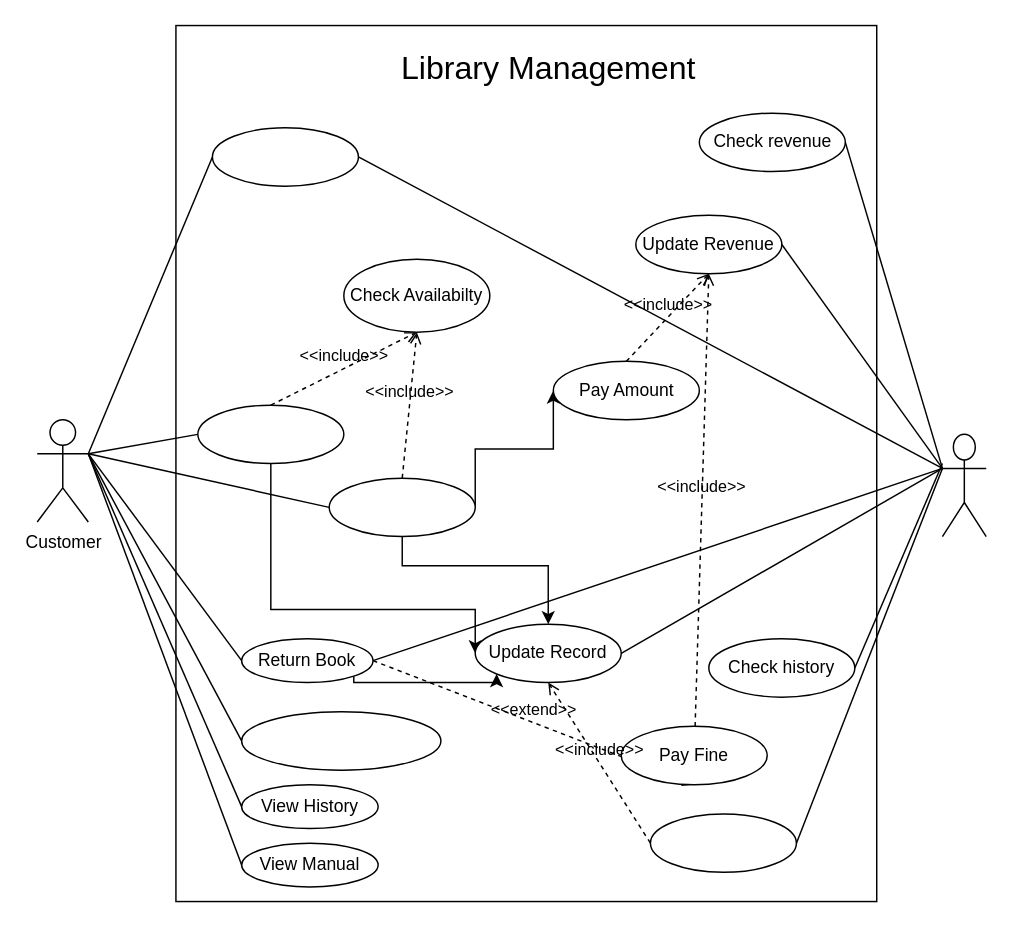
This 1015x927 diagram has some shape labels left out. Each missing label, with the centre of its shape:
"Add Book" goes at (722,842).
"Admin" goes at (963,485).
"Borrow Book" goes at (270,434).
"Buy Book" goes at (401,507).
"View Catalogue" goes at (284,156).
"View list of currently borrowed books" goes at (340,740).
